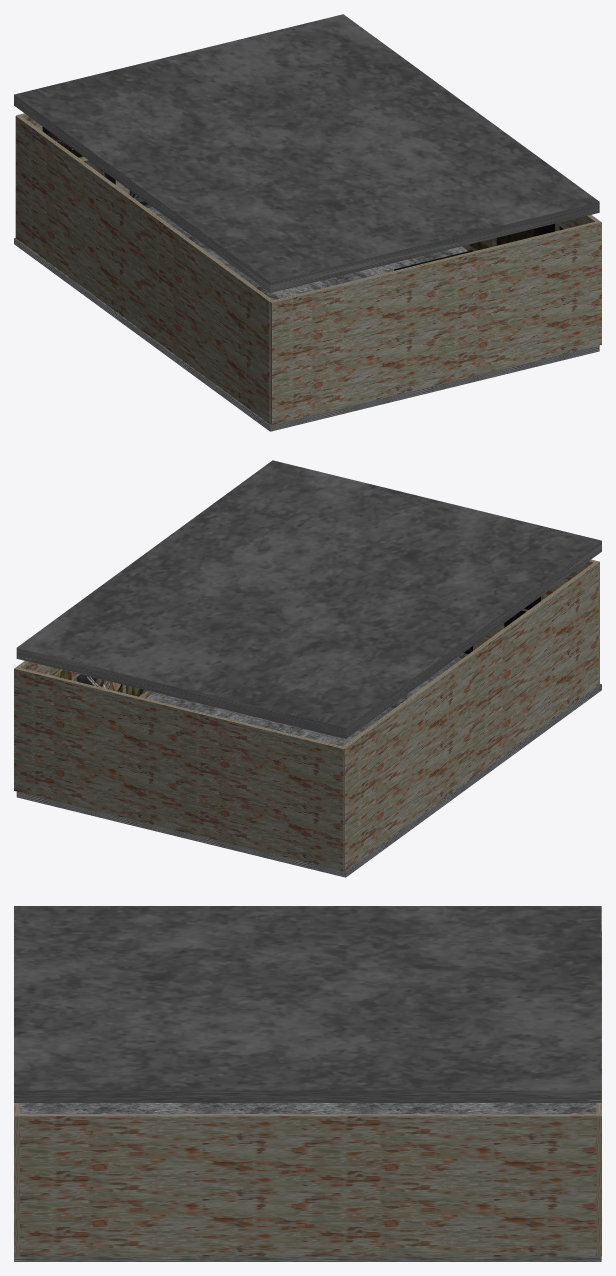
Rendered from Vacío.glb.
3 views of the same model, one above another, from view 1: azimuth 30°, elevation 25°; view 2: azimuth 150°, elevation 25°; view 3: azimuth 270°, elevation 25° (orthographic). The views are drawn at different scales.
Parts seen in each view (by area): view 1: Techo, Muro.001, Muro.003, Piso; view 2: Techo, Muro, Muro.003, Piso, Muro.001; view 3: Techo, Muro.002, Piso, Muro, Muro.001.
Part boxes in pixels (x1,y1,x2,y2): Techo: [14, 14, 599, 292]; Muro.001: [270, 220, 601, 424]; Muro.003: [15, 115, 273, 423]; Piso: [14, 207, 599, 431]; Techo: [16, 460, 601, 738]; Muro: [14, 667, 345, 871]; Muro.003: [341, 562, 598, 870]; Piso: [16, 653, 601, 877]; Muro.001: [473, 559, 599, 684]; Techo: [14, 906, 601, 1102]; Muro.002: [19, 1114, 596, 1256]; Piso: [14, 1103, 601, 1261]; Muro: [596, 932, 601, 1256]; Muro.001: [14, 1103, 19, 1256].
Bounding box in the file's own units: 18.01 × 7.76 × 24.09.
23 materials, 23 textured.
